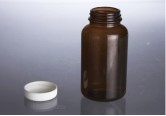medicinejar: (78, 2, 133, 108)
